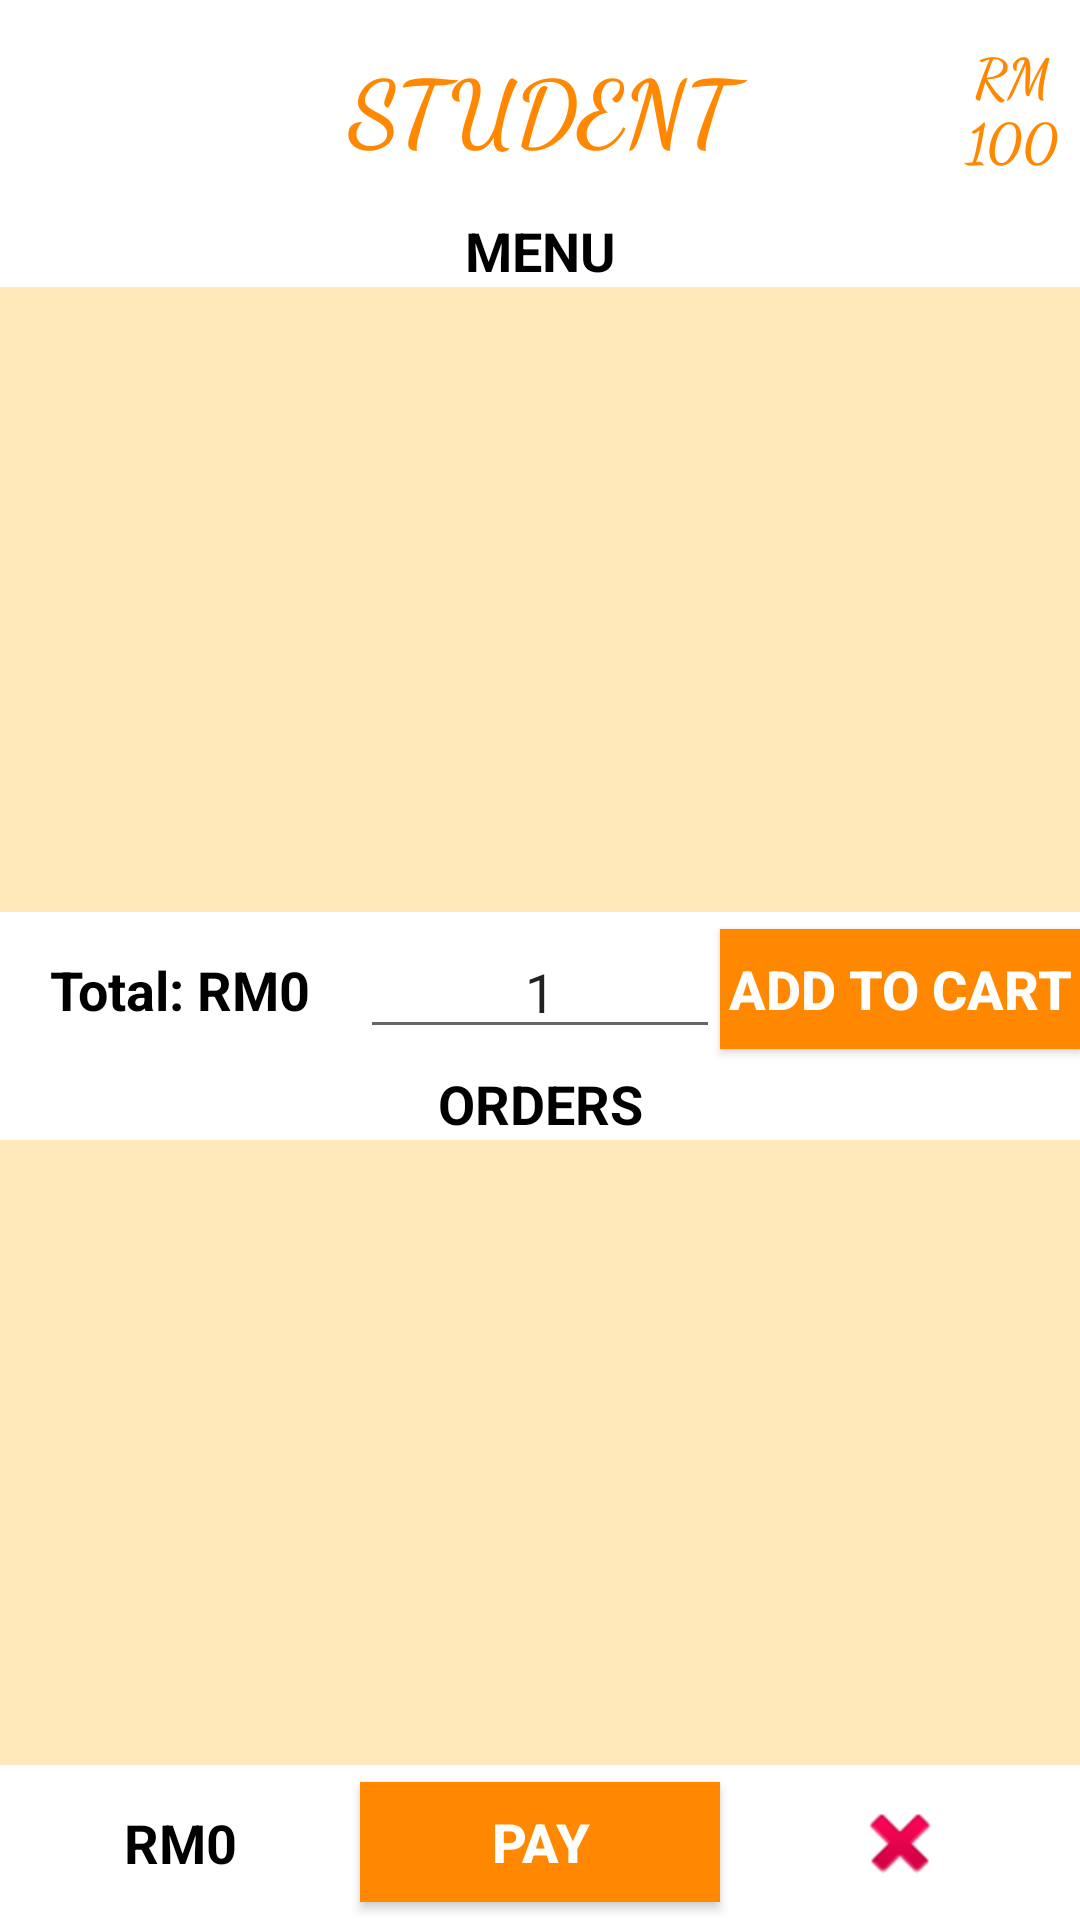

Screen size 1080 x 1920. Icon name, then its center in pixels as point (x, y):
delete: point (900, 1842)
